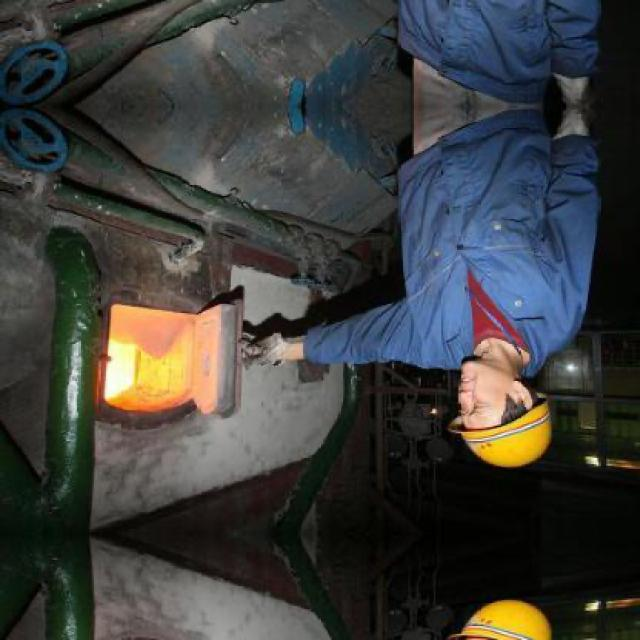con casco: (399, 322, 553, 487)
